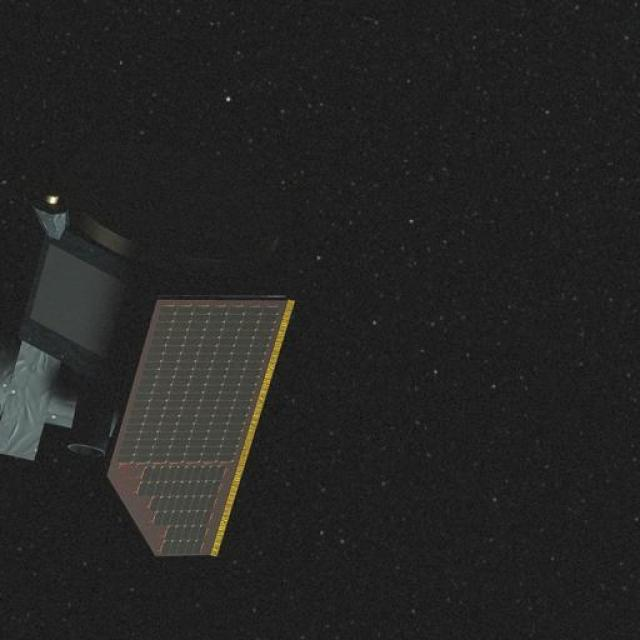debris: (0, 148, 300, 574)
